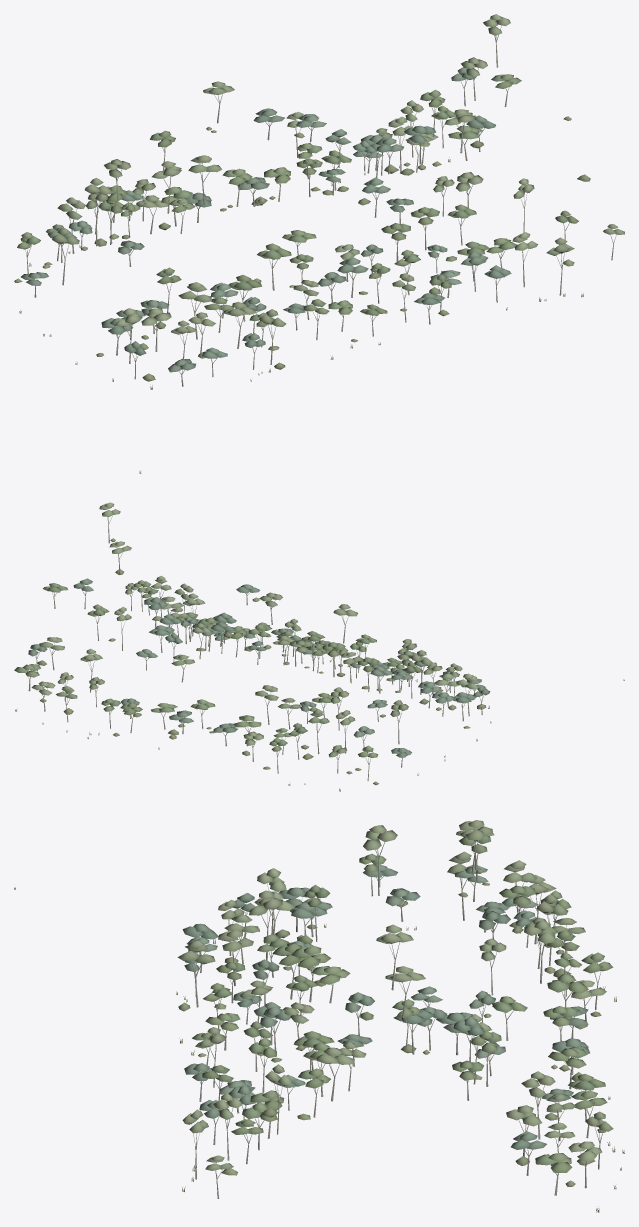
File: Stage 2 Bushland Sector 06.glb
3 views of the same model, one above another, from view 1: azimuth 30°, elevation 25°; view 2: azimuth 150°, elevation 25°; view 3: azimuth 270°, elevation 25° (orthographic). The views are drawn at different scales.
Visible parts, largest first — view 1: Stage2 Vegetation Sector 06; view 2: Stage2 Vegetation Sector 06; view 3: Stage2 Vegetation Sector 06.
Boxes of the visible parts, left/top/right/bottom form: Stage2 Vegetation Sector 06: left=14, top=14, right=624, bottom=473; Stage2 Vegetation Sector 06: left=14, top=502, right=624, bottom=791; Stage2 Vegetation Sector 06: left=14, top=820, right=624, bottom=1212.
Size of the model in its own units: 173 by 64.4 by 132.
